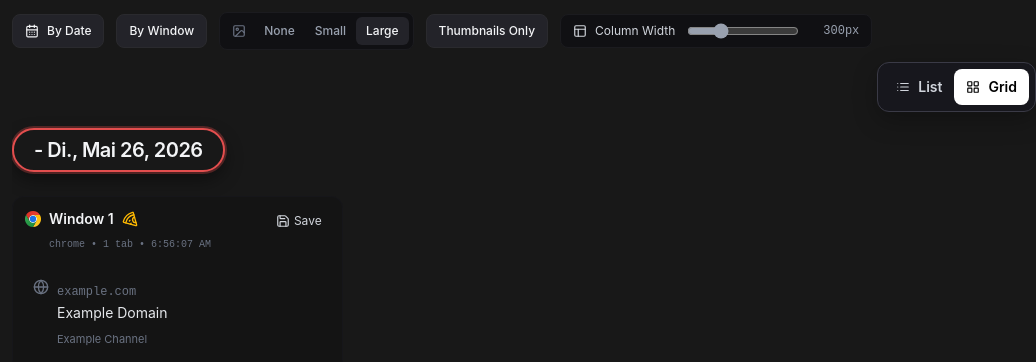
Test: ActiveConnectionsList › can flatten tabs when window grouping is disabled
Step 1. Click the button "By Window" → click(162, 31), box [116,14,207,48]
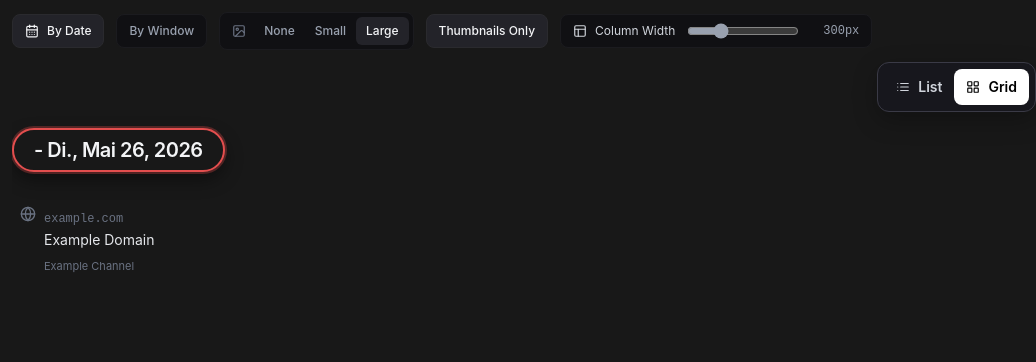
Expected: the button with aria-label "Focus tab Example Domain" is shown, [20,206,154,273]
Result: the text "Window 1" is gone
